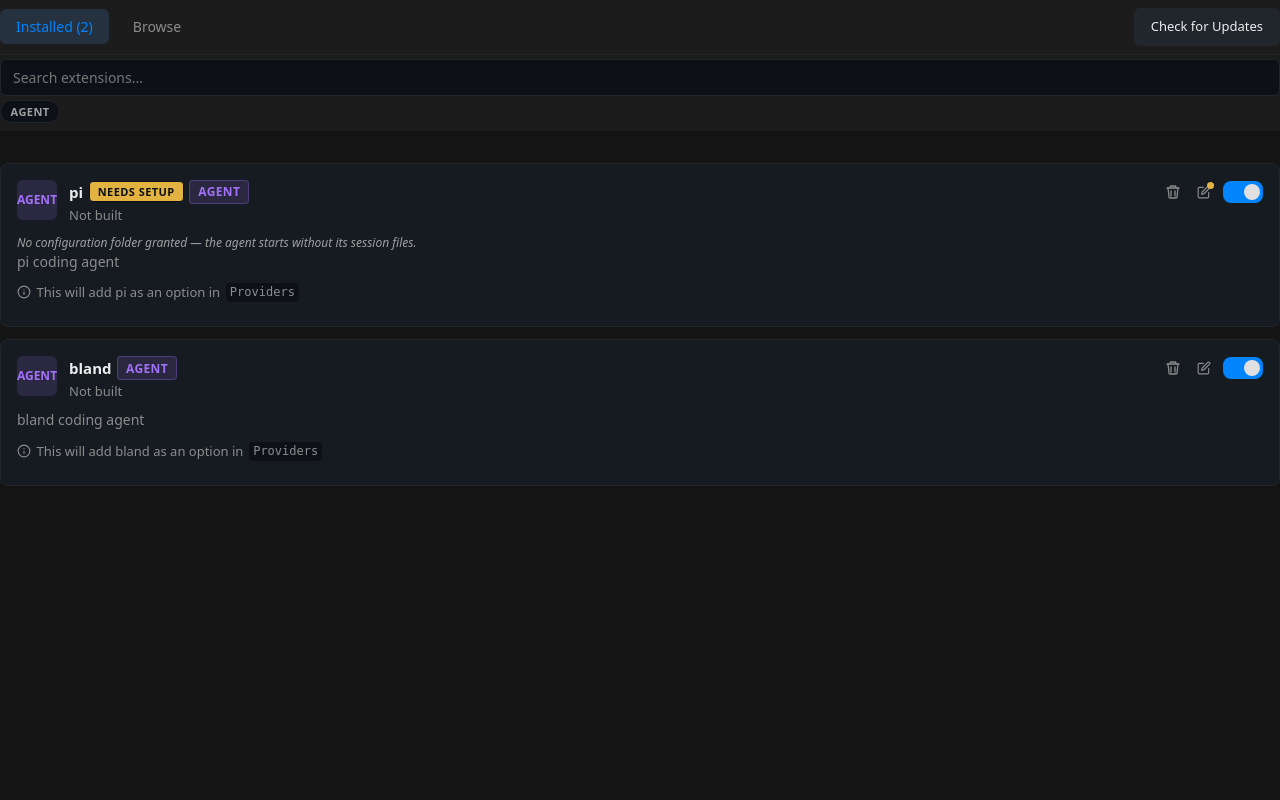
the Edit dialog: the folder, beside the rest of the settings › keeps the dialog open on a refusal and puts the server’s sentence on the folder
expect the text "pi" is shown: met, box [69,180,83,203]
Click the button "Needs setup": [136, 192] box [89,181,184,202]
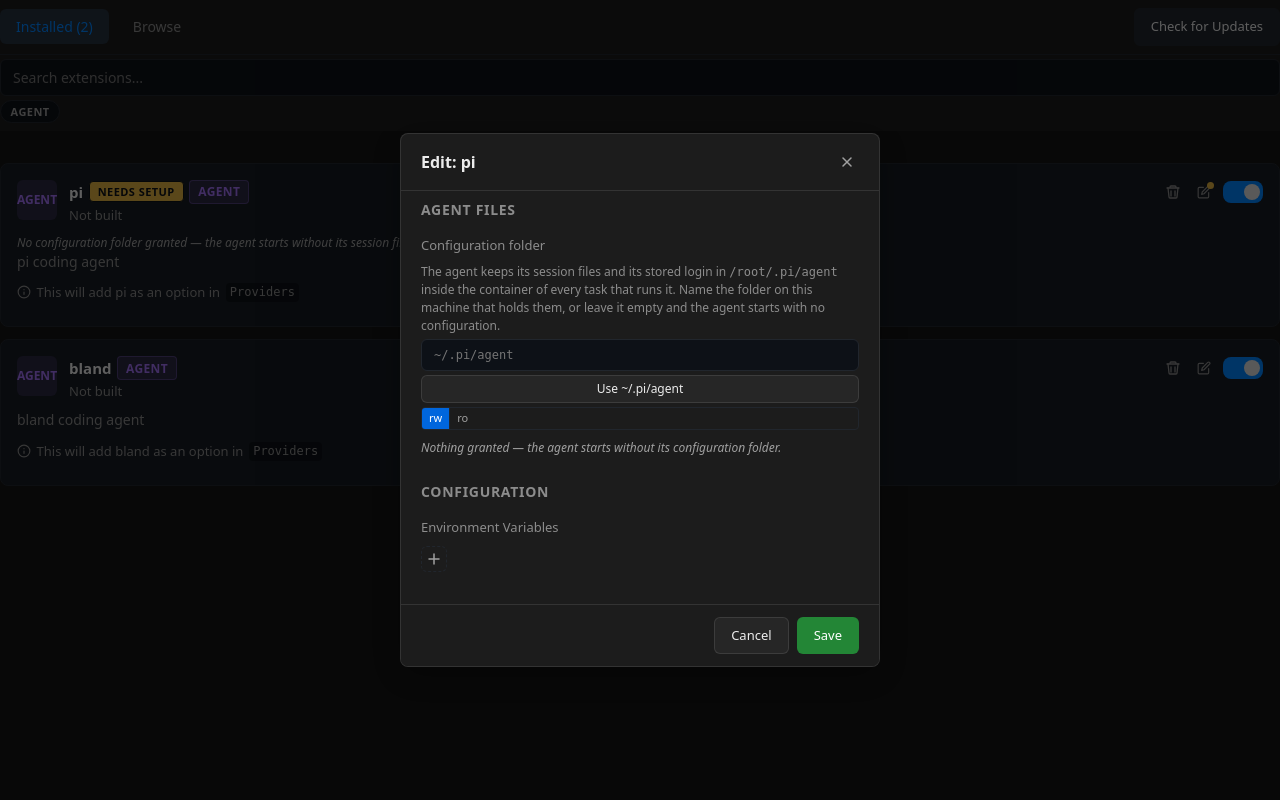
expect the field with id "edit-agent-mount-0" is shown: met
In the field with id "edit-agent-mount-0": [640, 355] box [421,339,859,371], type "/home/tester/.ssh"
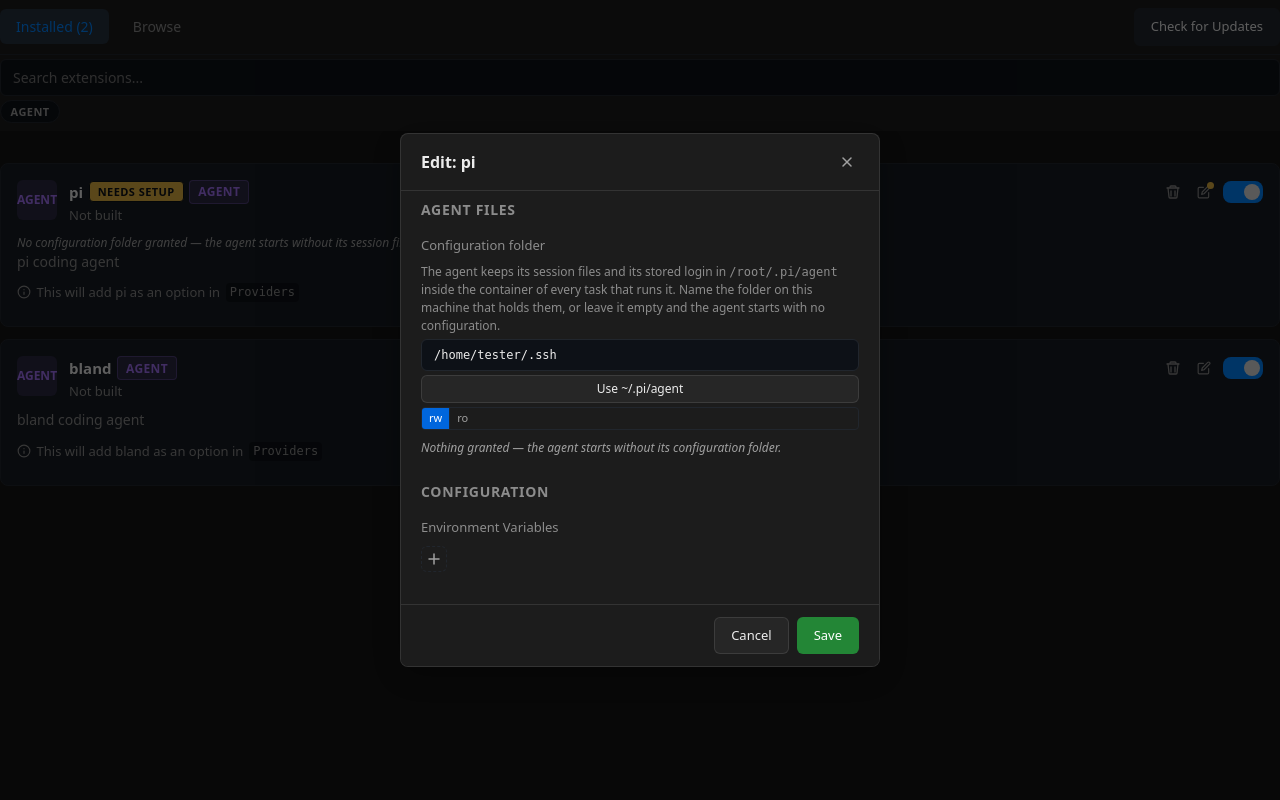
Click the button "Save": [828, 636] box [797,617,859,654]
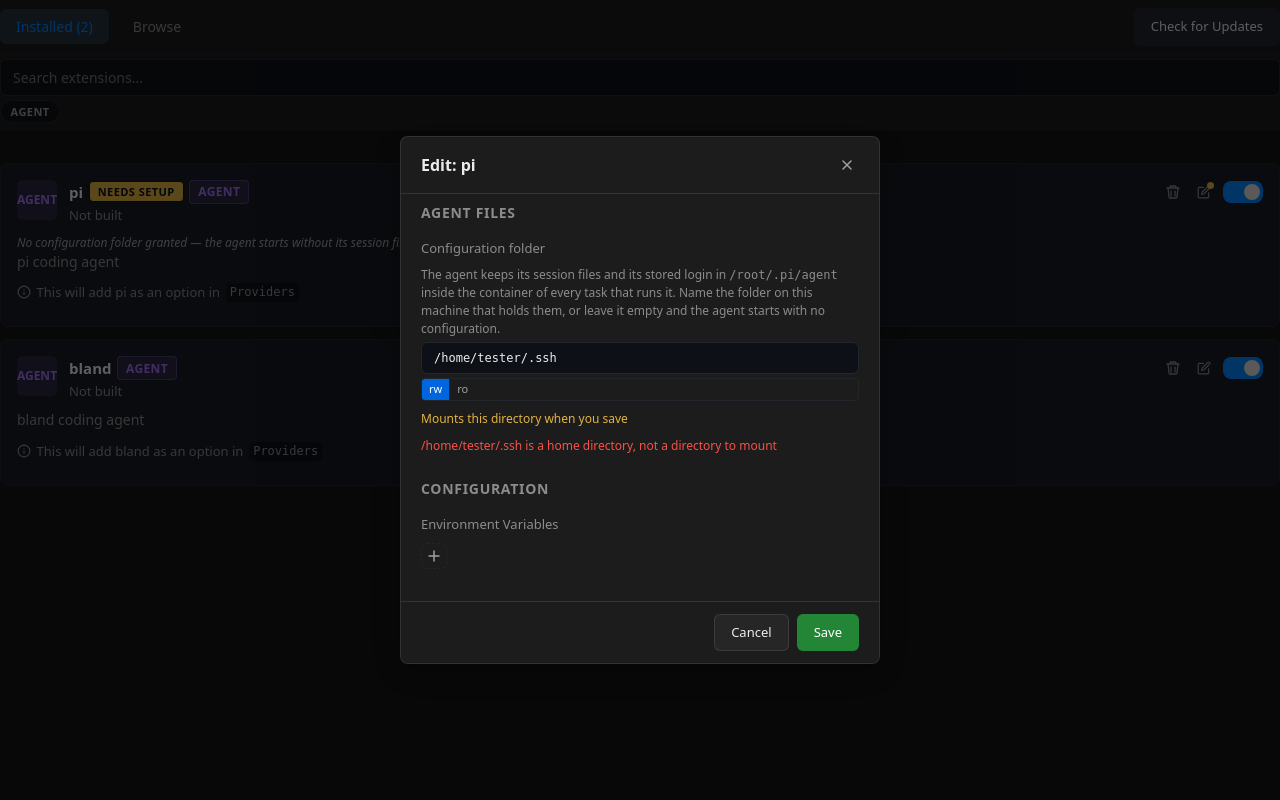
expect the message with class "ext-dep-error" shows "home directory": met, box [421,437,777,454]
